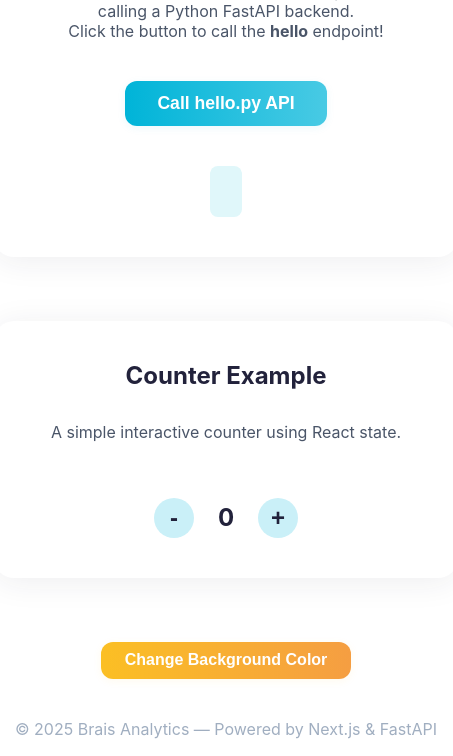
Test: Professional UI with Tabs › renders the counter and increments/decrements
The image size is (453, 756).
(page scrolled)
Check: the text "0" is shown, box 218,503 -> 234,532
Click the button "+" at (278, 518), box 258,498 -> 298,538
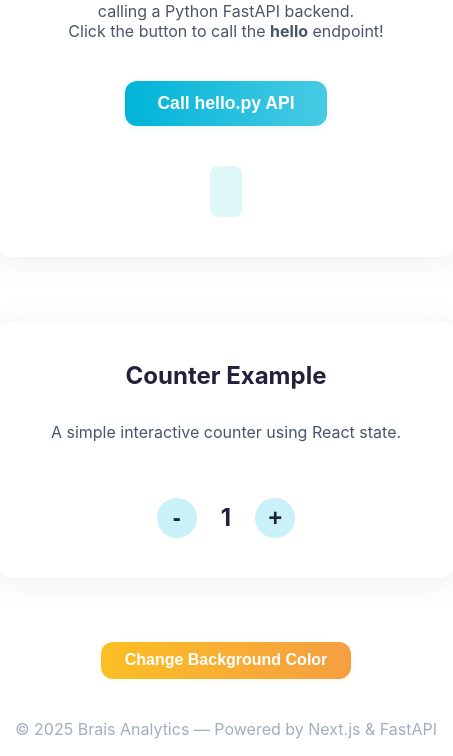
Check: the text "1" is shown, box 221,503 -> 231,532
Click the button "-" at (177, 518), box 157,498 -> 197,538
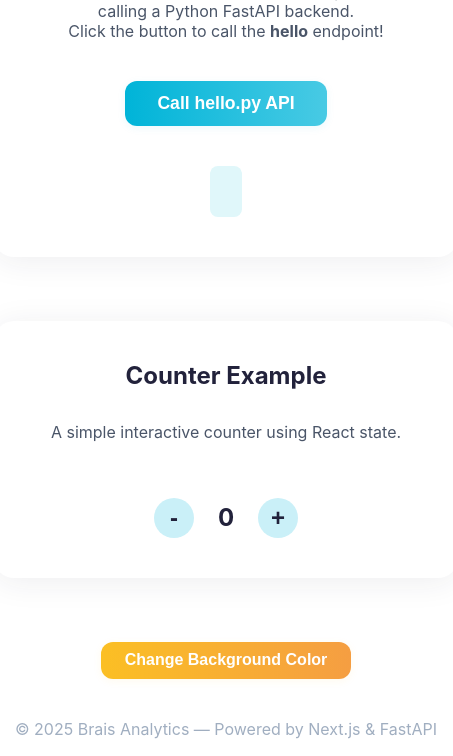
Check: the text "0" is shown, box 218,503 -> 234,532
